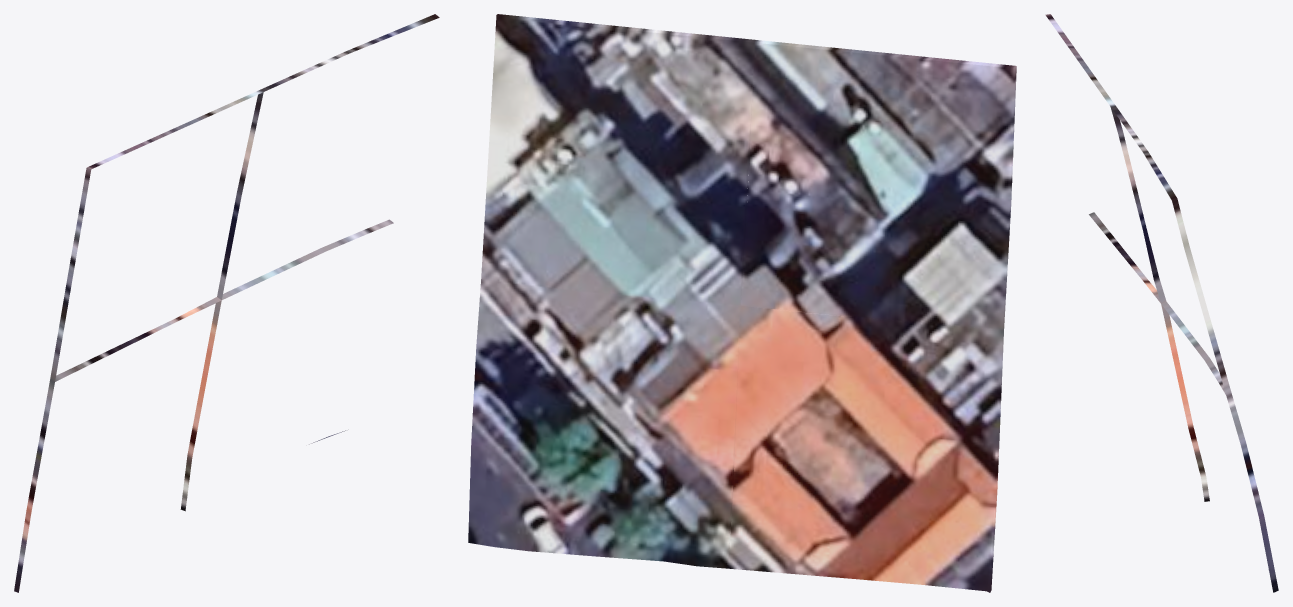
3 renders of one model, left to right at view 1: azimuth 30°, elevation 25°; view 2: azimuth 150°, elevation 25°; view 3: azimuth 270°, elevation 25°, orthographic. The views are drawn at different scales.
Bounding box in the file's own units: 38.33 × 37.28 × 19.31.
1 material, 1 textured.
